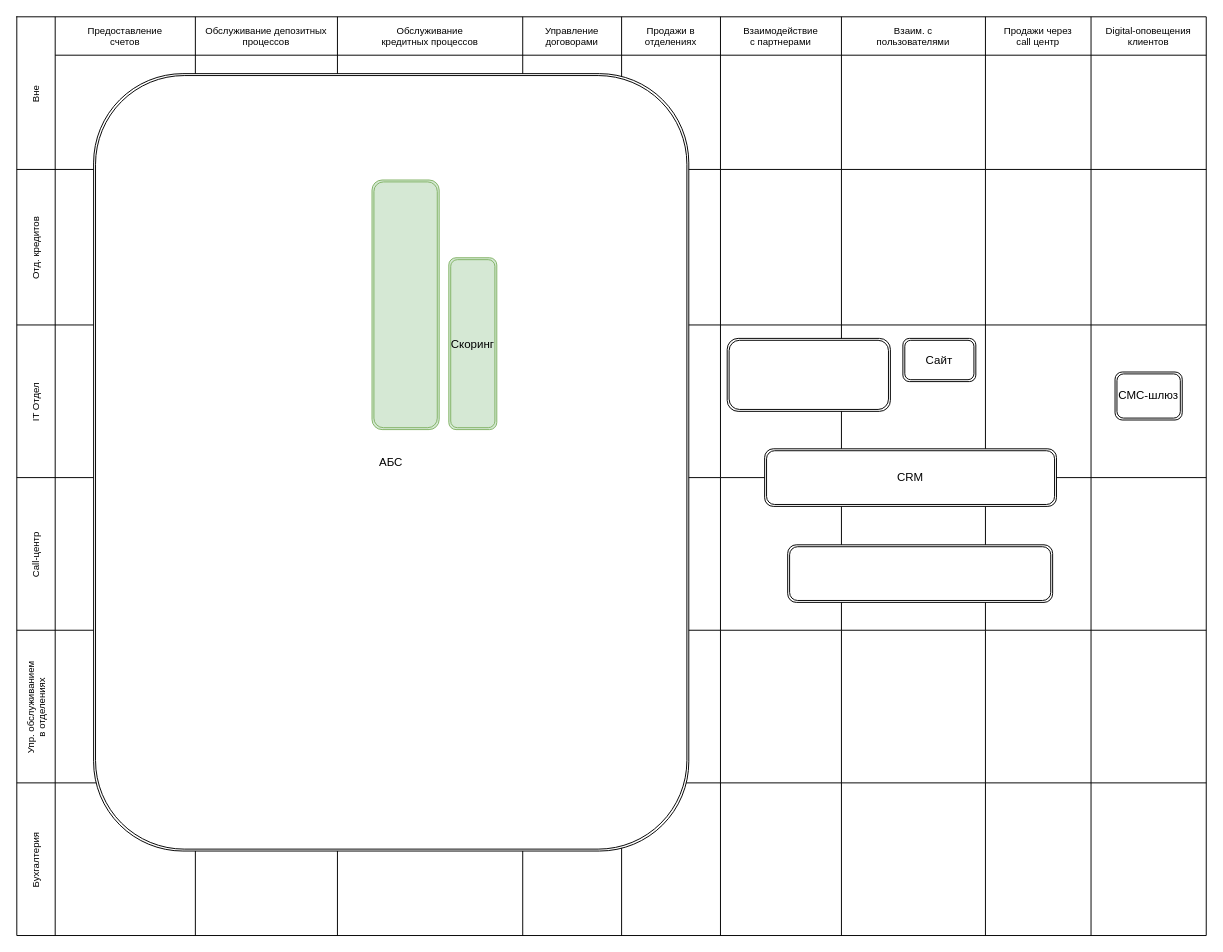
Some shapes in this 1223 by 952 pixel diagram are drawn without their labels. The centre of each missing label's shape, as x and y in pixels:
"BPM-система (кред. конвейер)" goes at point (405, 304).
"Внешний call-центр" goes at point (920, 573).
"Интернет банк" goes at point (808, 374).
